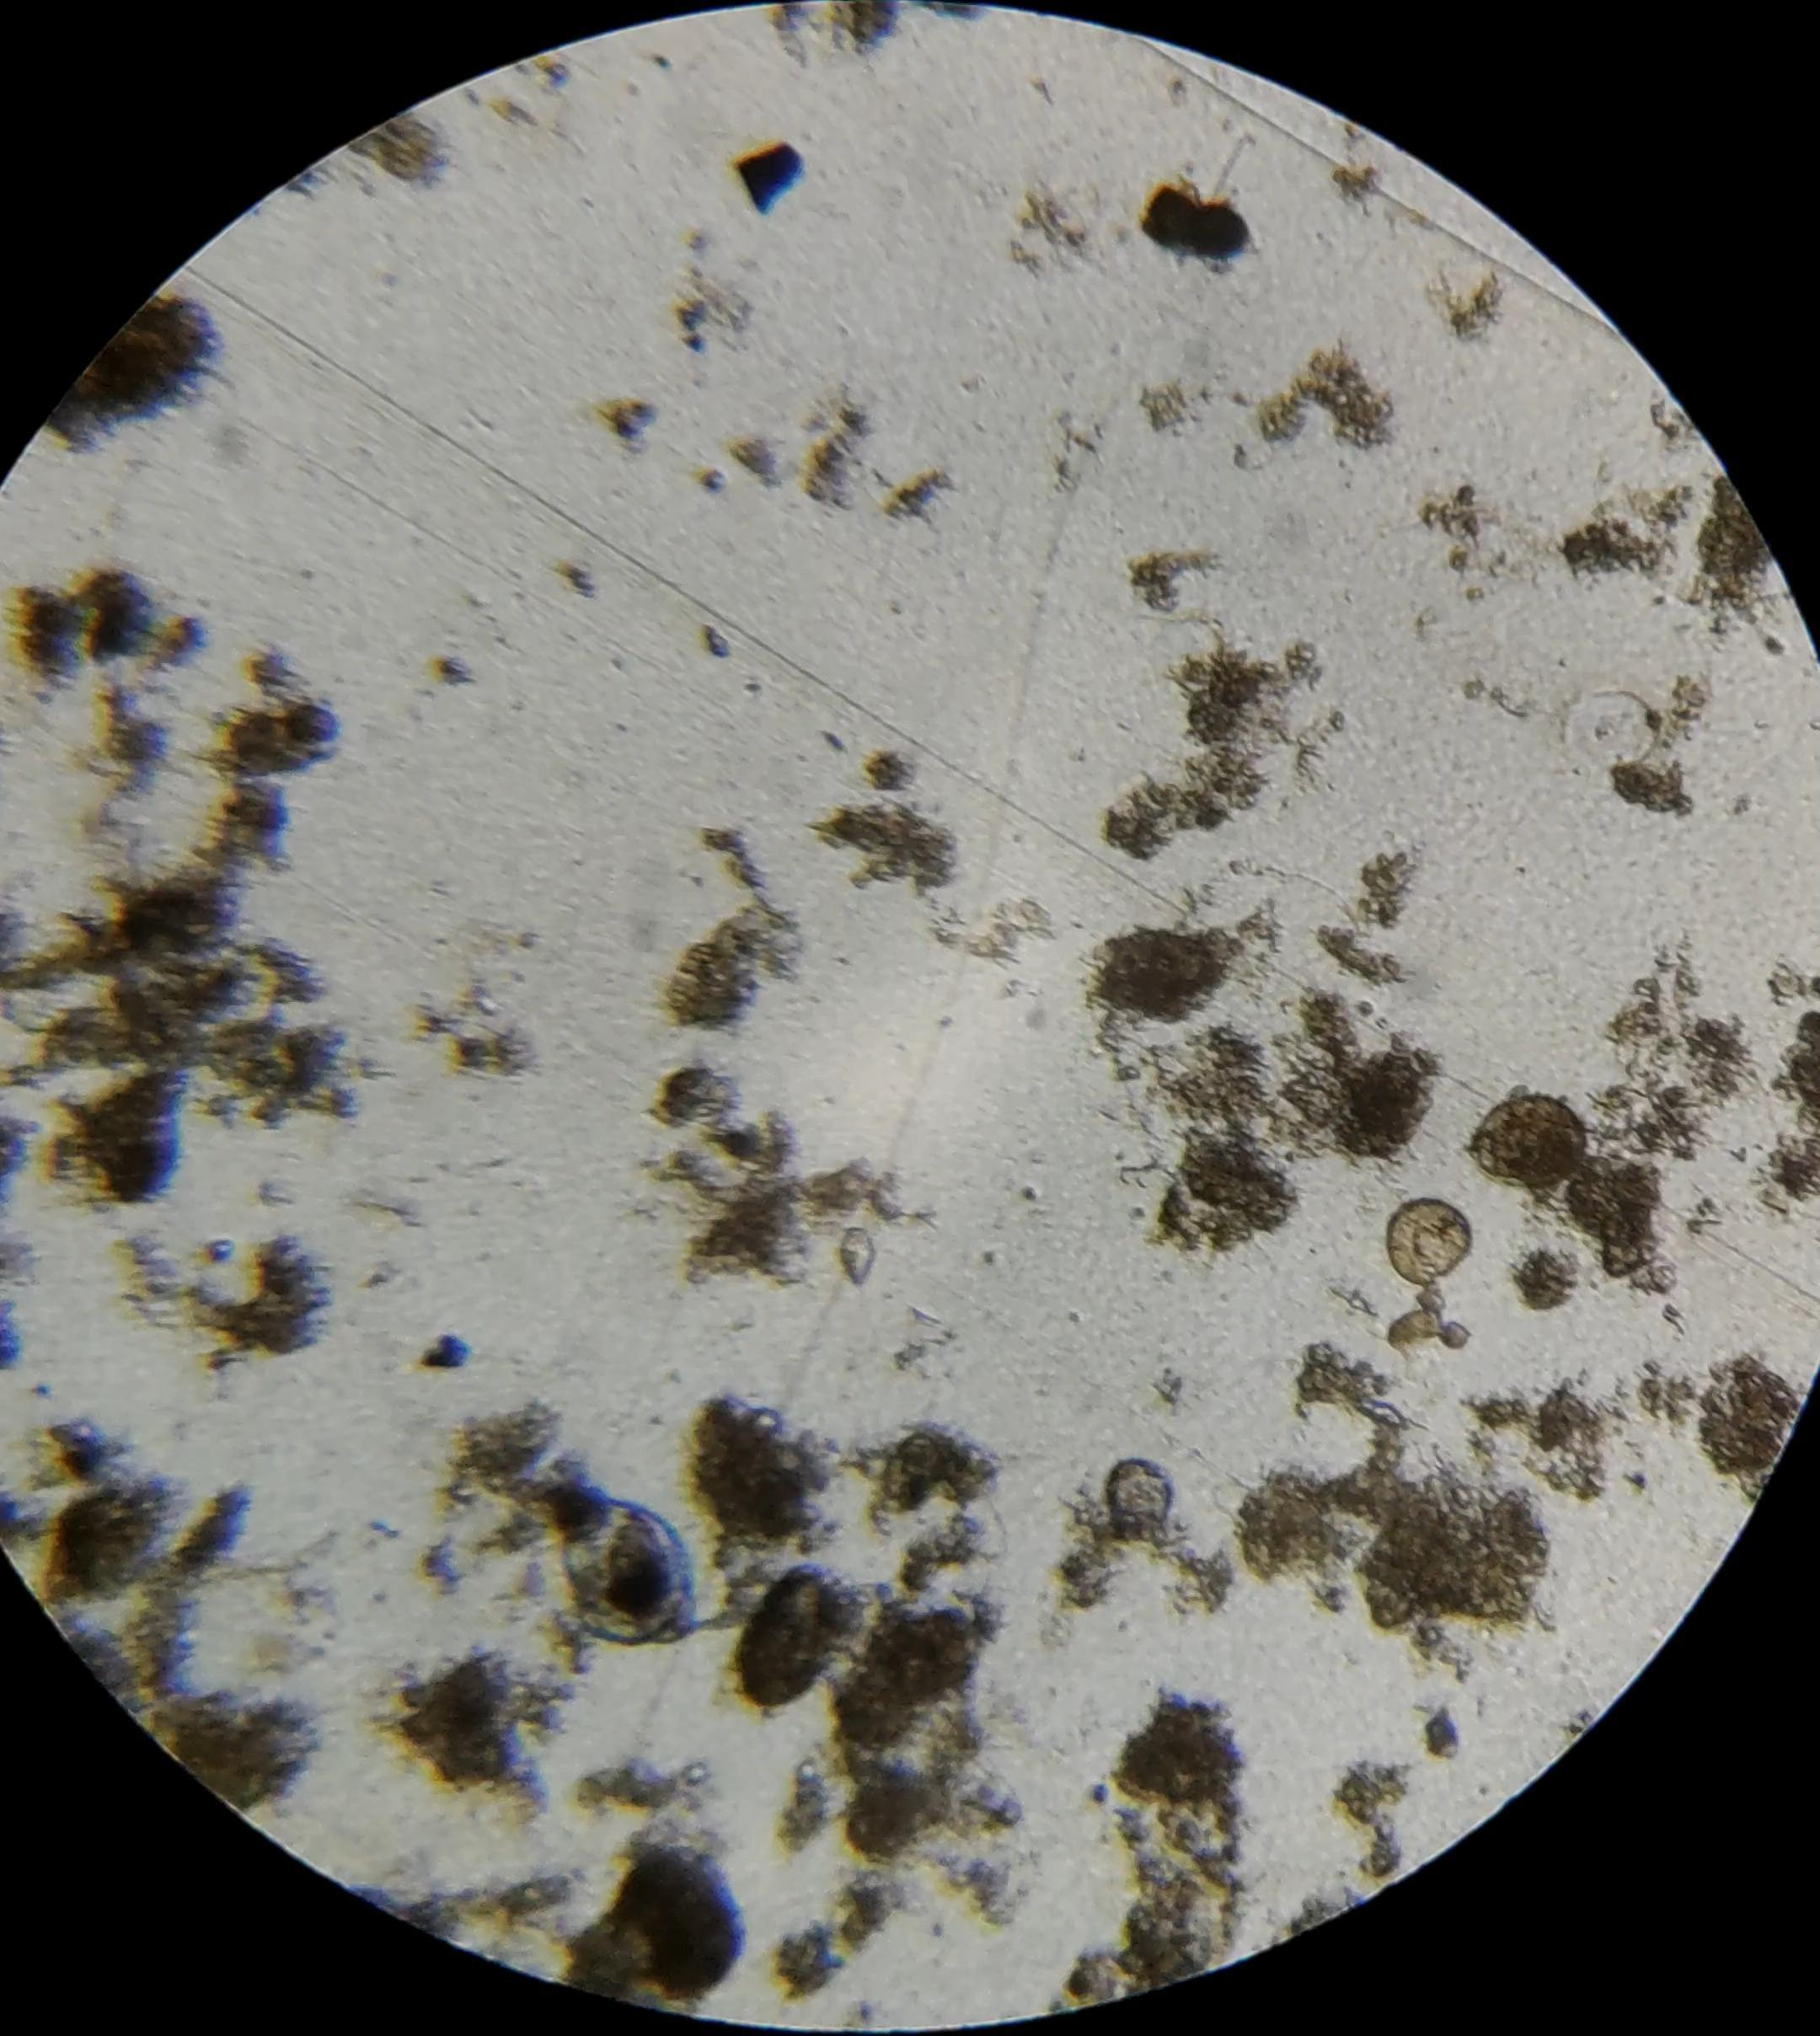Arcella: (1390, 1200, 1470, 1286)
Mo: (553, 1481, 754, 1646)
